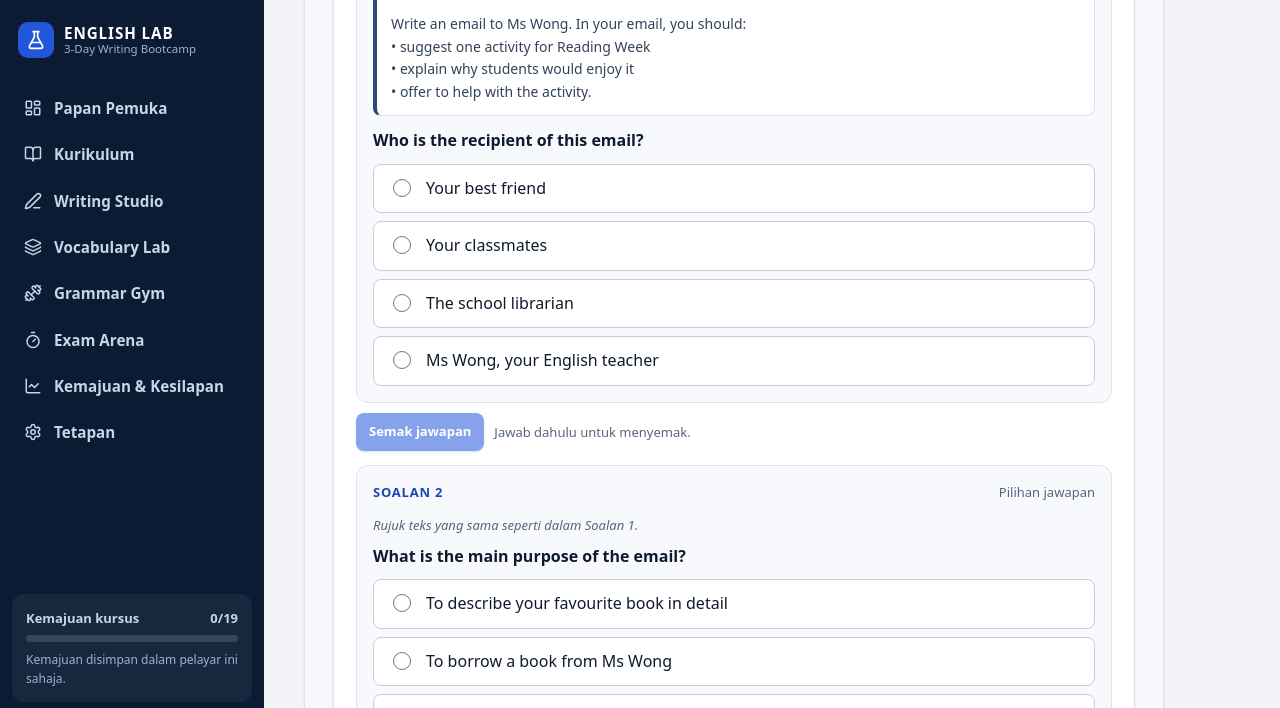
Test: lesson quizzes › gives instant feedback with an explanation in guided practice
(page scrolled)
Click the radio button labelled "Ms Wong, your English teacher". click: (402, 360)
box: [393,351,411,369]
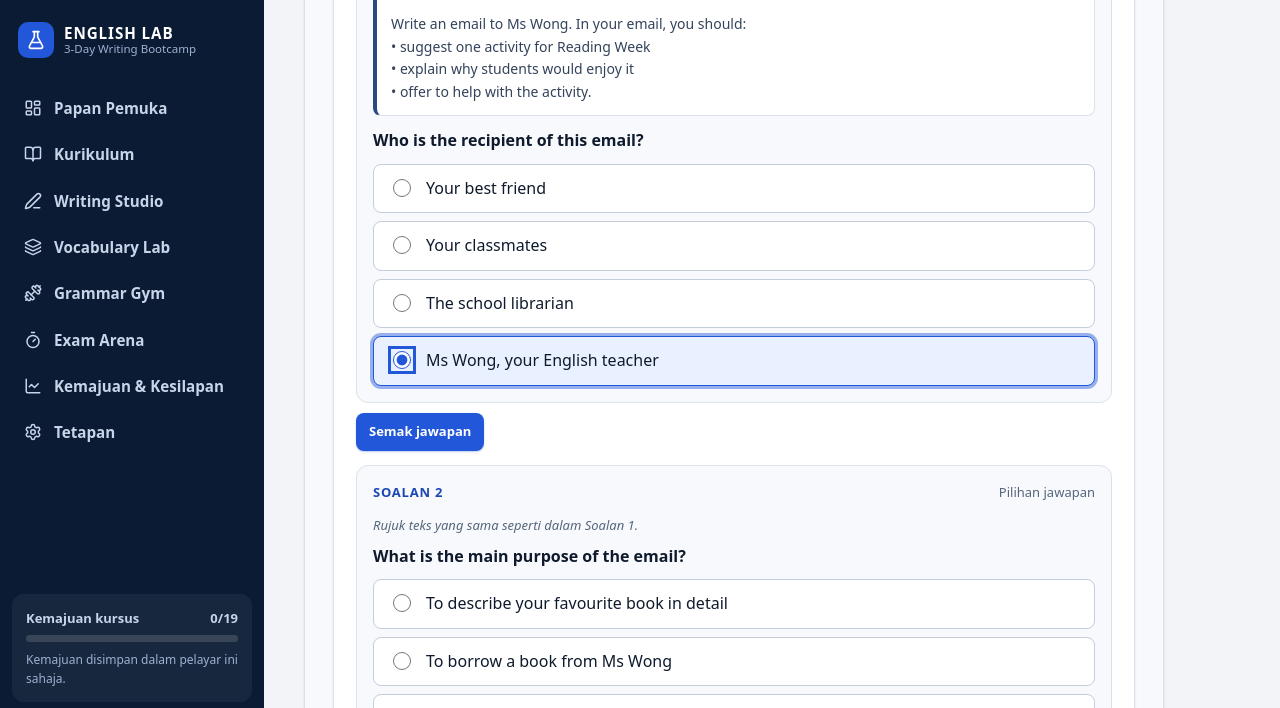
Click the button "Semak jawapan". click: (420, 432)
box: [356,413,484,451]
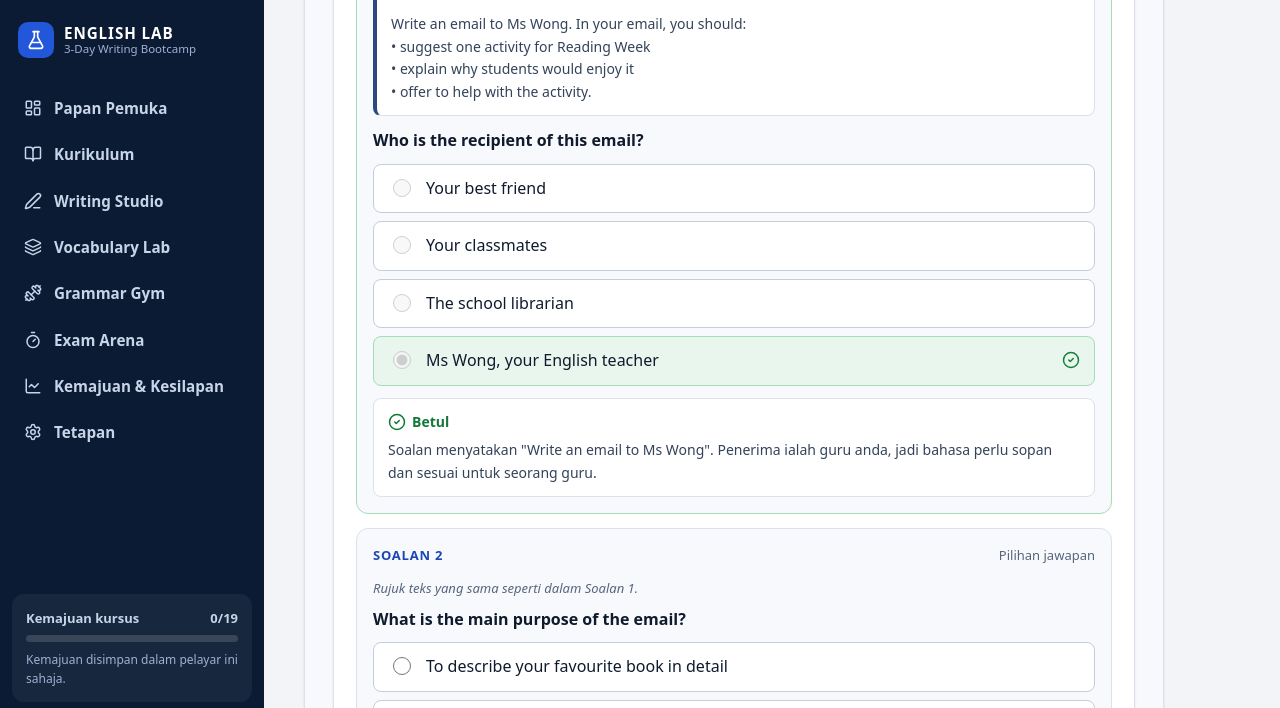
expect the text "Betul" is shown: met, box [388,412,449,431]
expect the text "Penerima ialah guru anda" is shown: met, box [388,440,1052,482]
